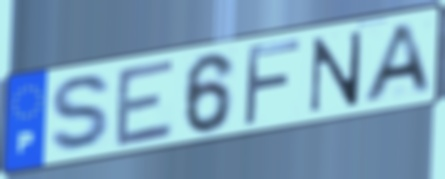6: (182, 49, 237, 135)
A: (359, 20, 436, 106)
E: (112, 56, 178, 151)
F: (240, 36, 304, 130)
N: (306, 27, 366, 116)
S: (47, 72, 116, 156)
